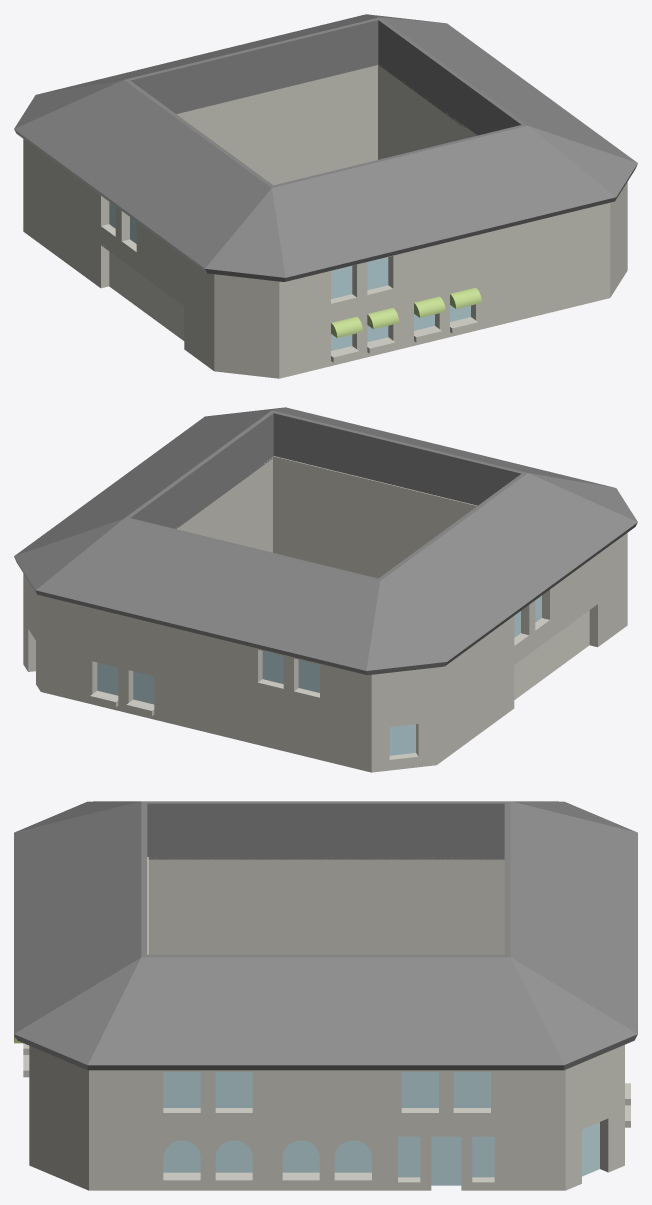
File: S_Office.fbx
The picture shows the model from 3 angles, top to bottom: view 1: azimuth 30°, elevation 25°; view 2: azimuth 150°, elevation 25°; view 3: azimuth 270°, elevation 25°; orthographic projection. The views are drawn at different scales.
Visible parts, largest first — view 1: roof_019, roof_021, roof_020, roof_012, building_072, roof_023, roof_022, roof_024, building_084, roof_011, roof_015, building_073 (+30 smaller); view 2: roof_015, roof_014, roof_008, roof_013, building_066, roof_023, roof_022, roof_024, building_083, roof_010, building_064, building_063 (+30 smaller); view 3: roof_017, roof_016, roof_018, roof_011, roof_010, building_067, building_069, building_089, building_079, building_088, building_068, building_061 (+20 smaller).
Part boxes in pixels (x1,y1,x2,y2): roof_019: (439, 125, 574, 231); roof_021: (274, 165, 409, 271); roof_020: (356, 145, 492, 251); roof_012: (181, 185, 326, 281); building_072: (190, 300, 320, 378); roof_023: (85, 115, 225, 220); roof_022: (133, 150, 272, 255); roof_024: (38, 80, 177, 185); building_084: (190, 261, 320, 326); roof_011: (522, 124, 637, 211); roof_015: (244, 18, 378, 84); building_073: (403, 274, 486, 348); roof_015: (77, 518, 212, 624); roof_014: (159, 538, 295, 644); roof_008: (242, 558, 377, 664); roof_013: (325, 578, 470, 675); building_066: (330, 694, 460, 772); roof_023: (426, 508, 566, 613); roof_022: (474, 473, 613, 578); roof_024: (378, 543, 518, 648); building_083: (330, 655, 460, 720); roof_010: (14, 517, 129, 604); building_064: (164, 668, 247, 742); building_063: (82, 648, 164, 721); roof_017: (266, 954, 385, 1070); roof_016: (385, 954, 504, 1070); roof_018: (147, 954, 266, 1070); roof_011: (14, 954, 147, 1070); roof_010: (504, 954, 637, 1070); building_067: (267, 1123, 386, 1190); building_069: (29, 1098, 148, 1190); building_089: (148, 857, 267, 924); building_079: (267, 857, 386, 924); building_088: (386, 857, 504, 924); building_068: (148, 1124, 267, 1190); building_061: (506, 1098, 624, 1190).
Size of the model in its own units: 524 by 172 by 524.
